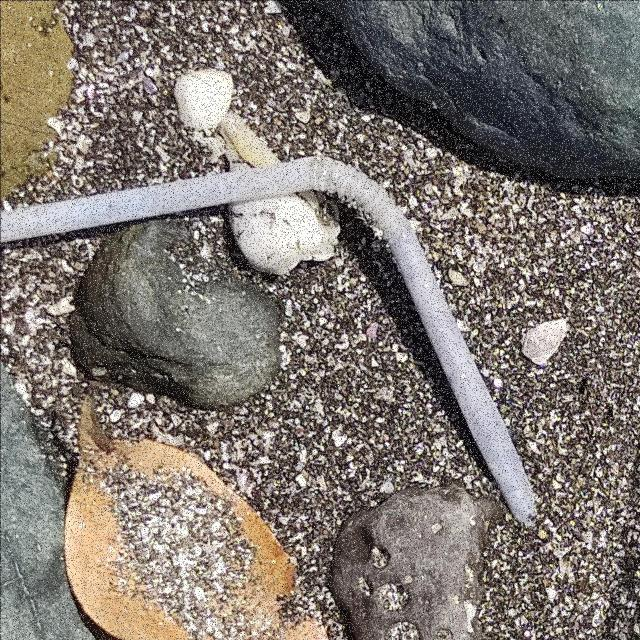plastic_waste: (1, 154, 539, 526)
